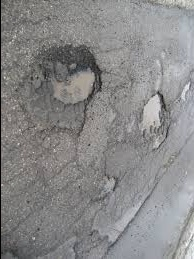pothole: (34, 44, 102, 113), (96, 201, 150, 247), (137, 90, 173, 154), (93, 177, 123, 199)
